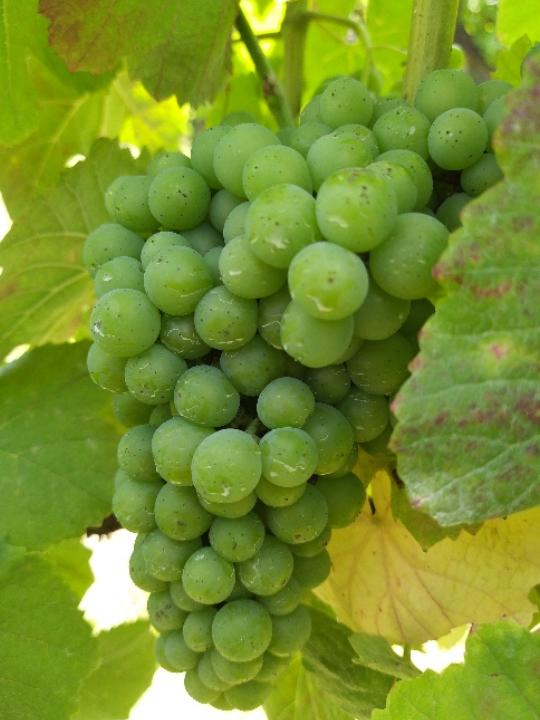grape: (81, 72, 524, 715)
